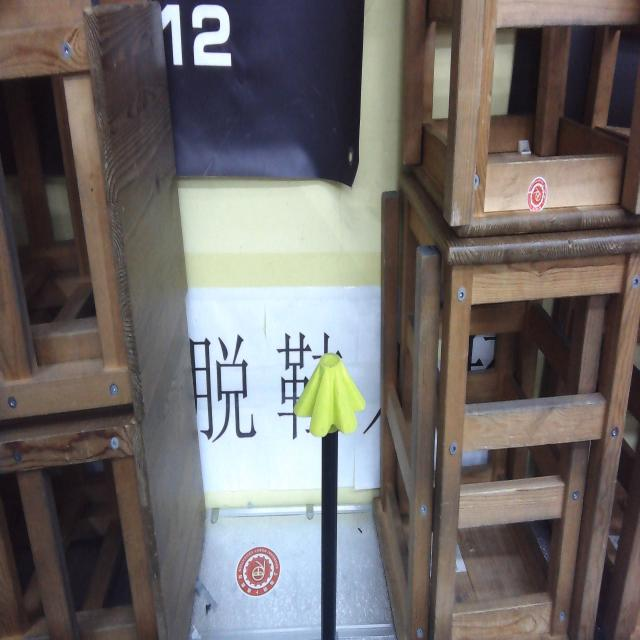Yellow-Stake-Head: (292, 352, 366, 435)
